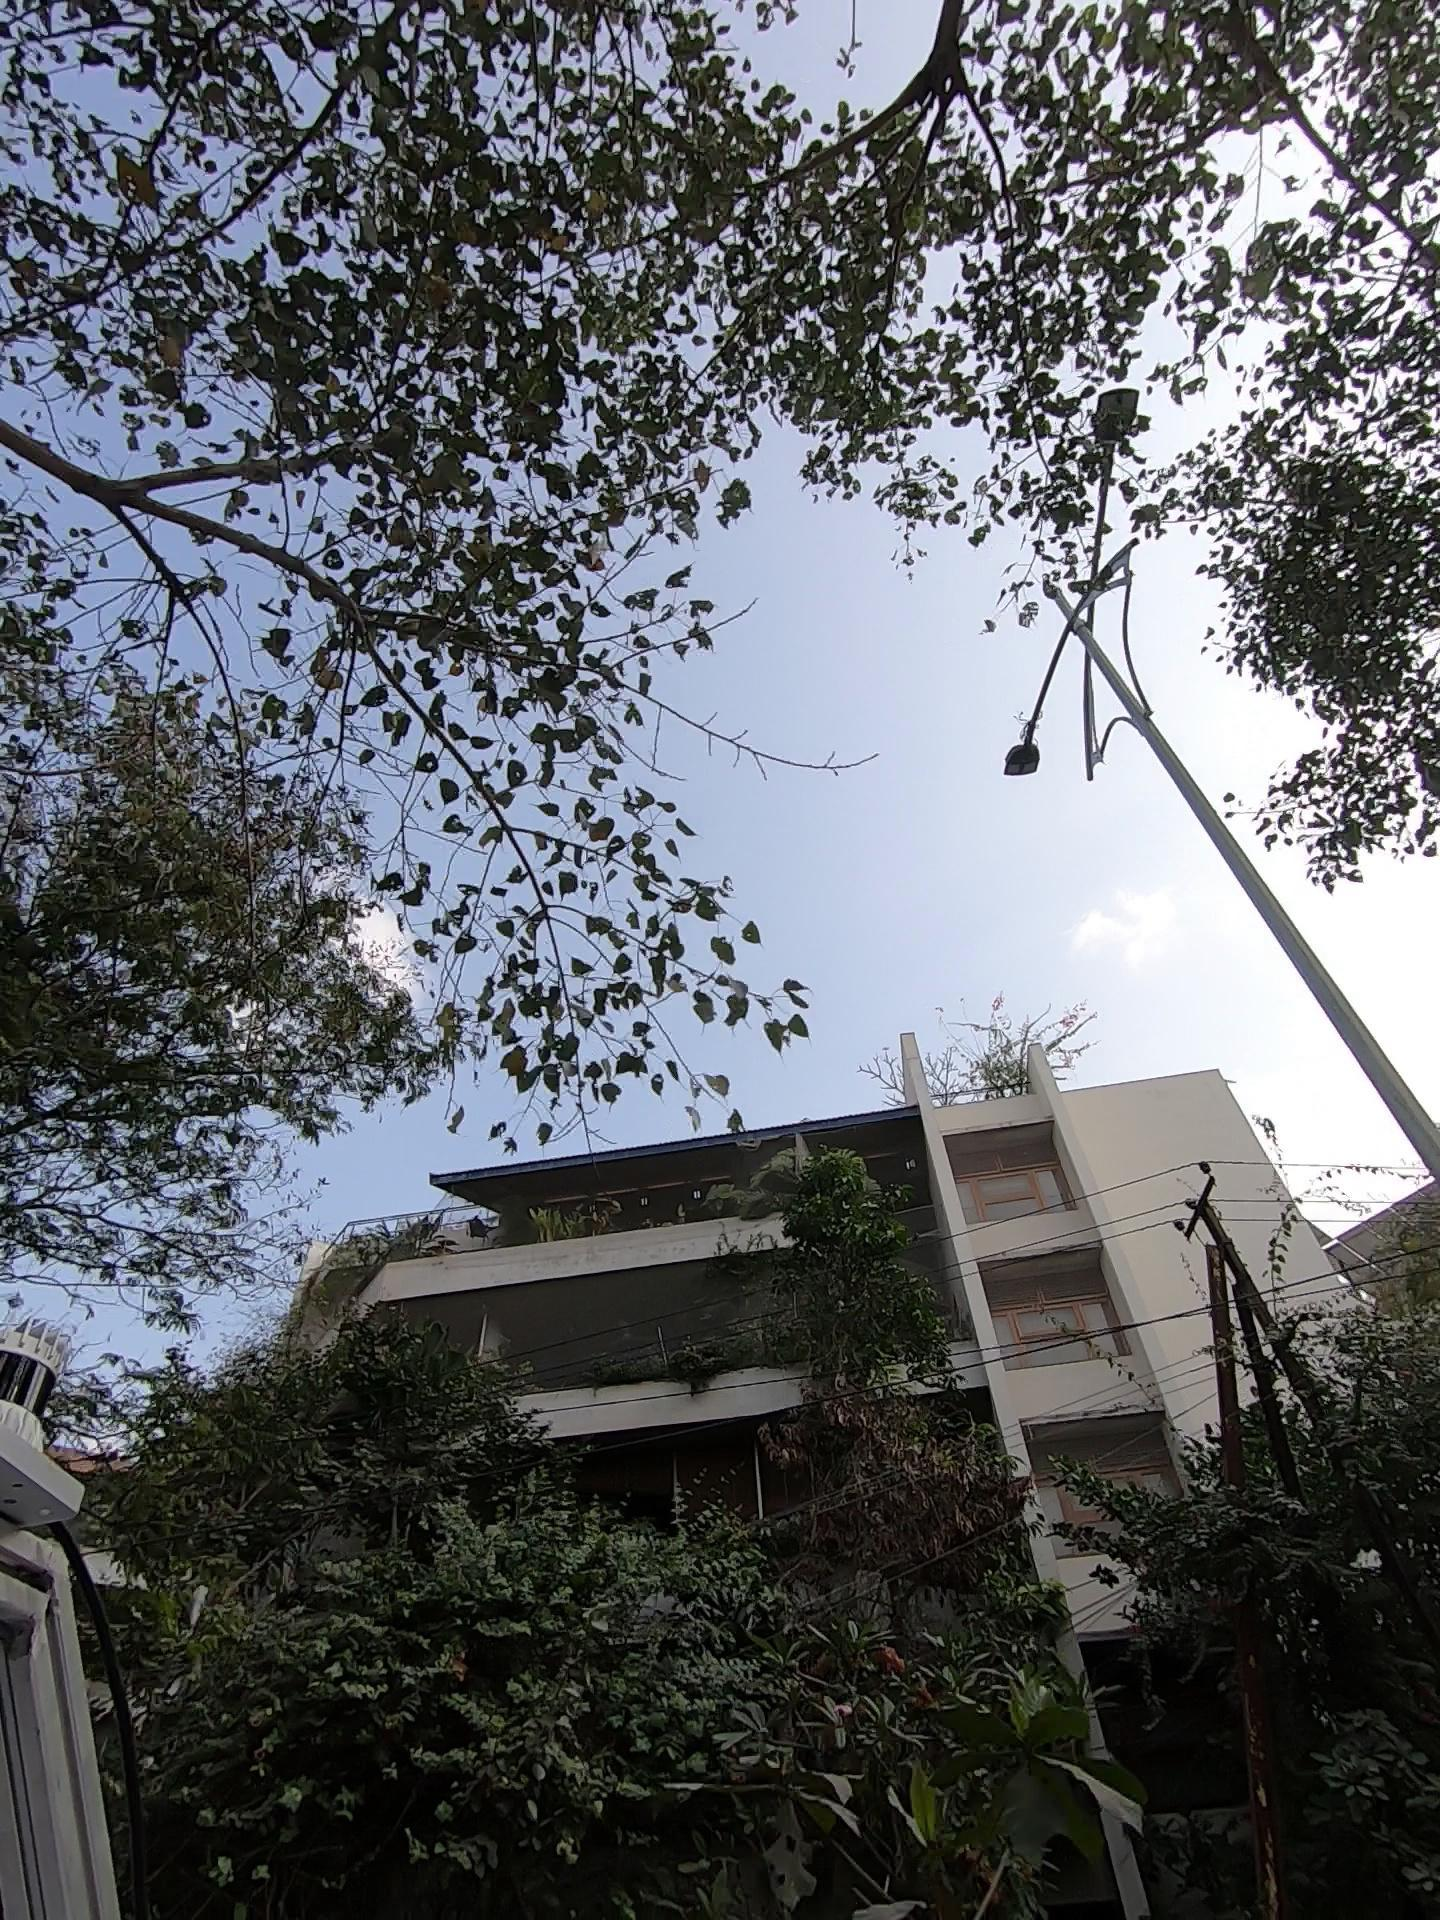off: (939, 416, 1163, 919)
